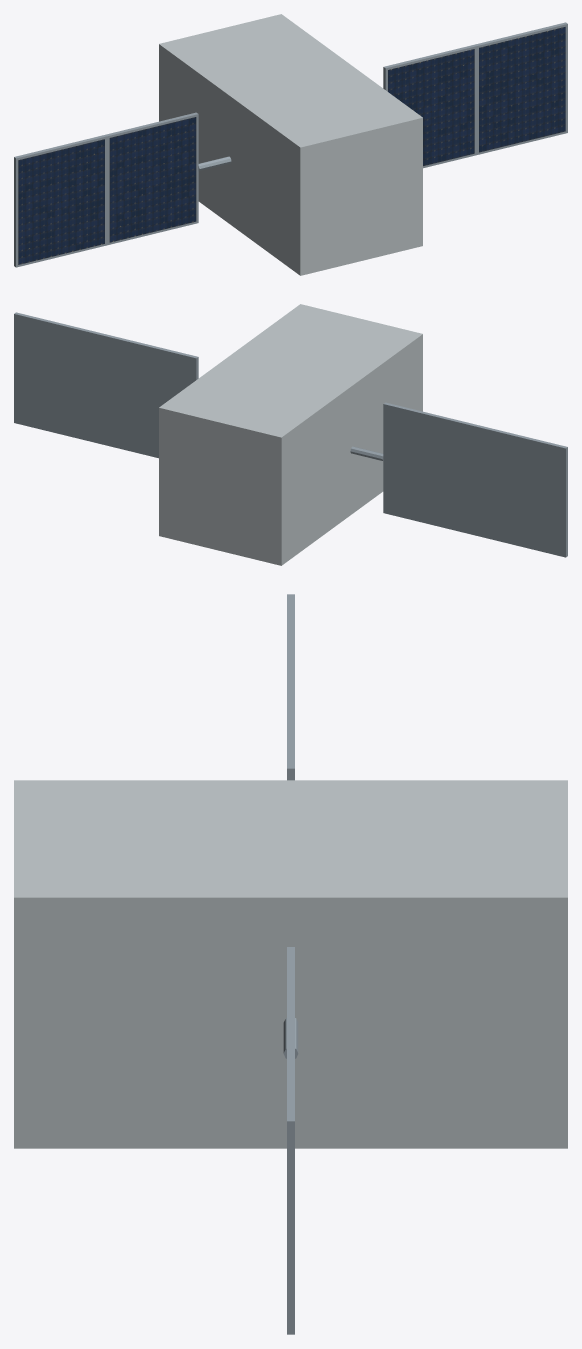
Rendered from ref-solar-a-21694.glb.
3 views of the same model, one above another, from view 1: azimuth 30°, elevation 25°; view 2: azimuth 150°, elevation 25°; view 3: azimuth 270°, elevation 25° (orthographic). The views are drawn at different scales.
Parts seen in each view (by area): view 1: Spacecraft body, Photovoltaic laminates (×4), Array frame (×4); view 2: Spacecraft body, Array frame (×4); view 3: Spacecraft body, Array frame.
Part boxes in pixels (x1,y1,x2,y2): Spacecraft body: [159, 14, 422, 275]; Photovoltaic laminates (×4): [18, 27, 565, 264]; Array frame (×4): [14, 22, 567, 267]; Spacecraft body: [159, 304, 422, 565]; Array frame (×4): [14, 312, 567, 557]; Spacecraft body: [14, 780, 567, 1148]; Array frame: [287, 1034, 294, 1334].
Bounding box in the file's own units: 4.5 × 1 × 2.
Materials: 3 (1 with a texture image).
